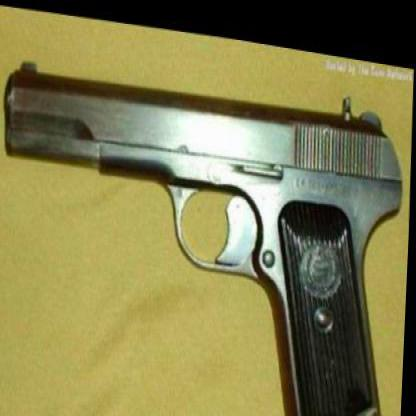pistol: (0, 33, 410, 412)
